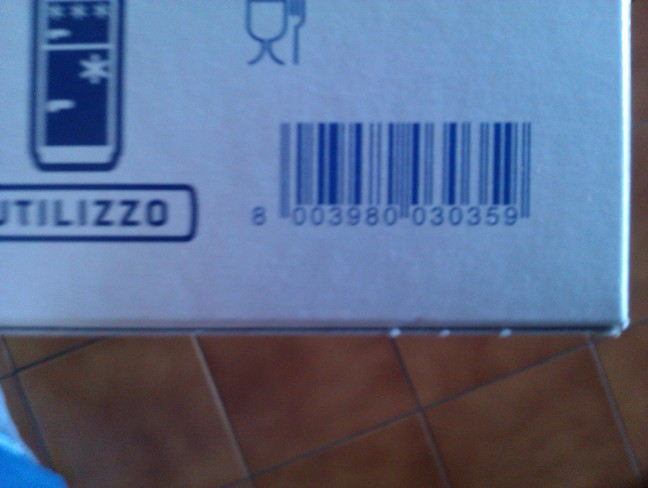detection: (242, 103, 557, 247)
